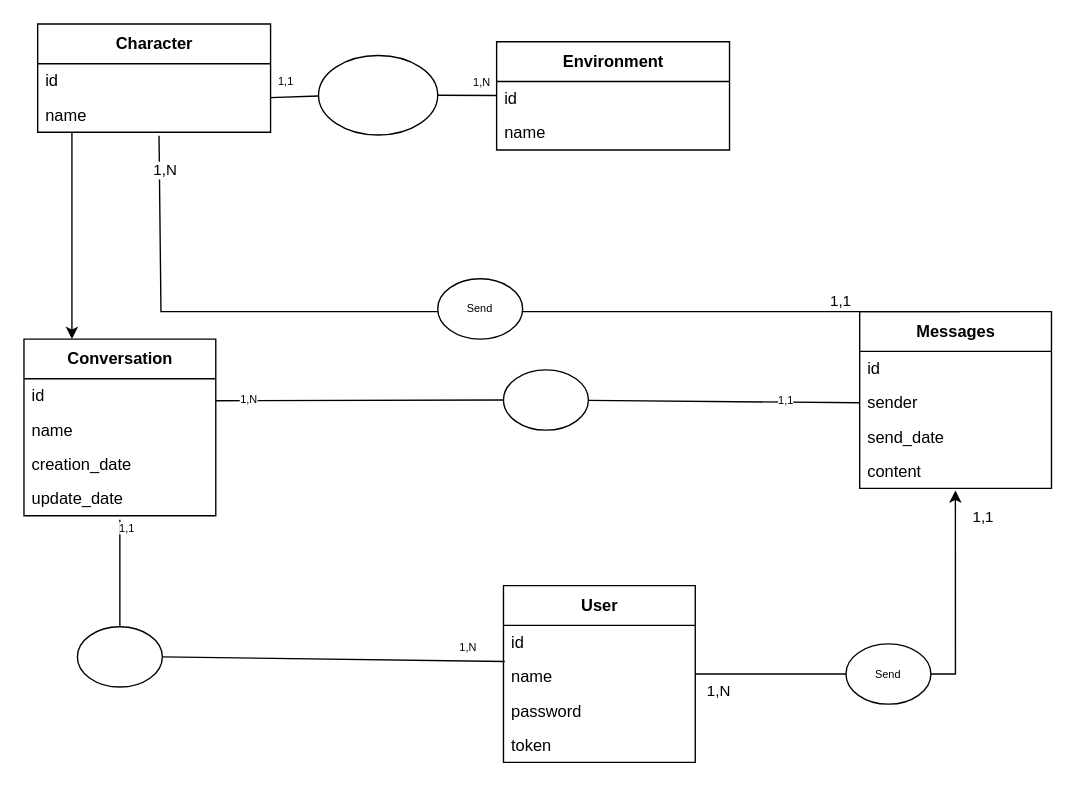
Some shapes in this 1075 by 786 pixel diagram are drawn without their labels. Each missing label, with the centre of its shape:
"Belong to" belongs at [377,94].
"open" belongs at [119,656].
"Save" belongs at [545,399].
